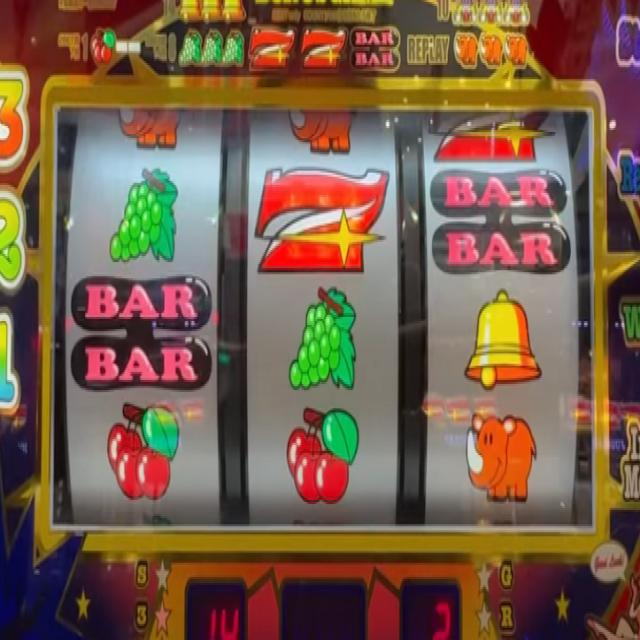bar: (69, 272, 213, 393), (430, 165, 572, 280), (349, 26, 401, 77)
bell: (463, 287, 543, 391), (178, 0, 201, 25), (222, 0, 246, 23), (202, 0, 222, 24)
cherry: (284, 404, 360, 506), (105, 399, 180, 501), (90, 26, 115, 68)
clown: (502, 0, 530, 29), (452, 0, 478, 29), (479, 0, 503, 29)
display: (49, 94, 596, 539)
elephant: (463, 409, 538, 508), (286, 107, 357, 156), (113, 106, 182, 153), (453, 33, 478, 69), (503, 32, 528, 68), (479, 32, 502, 68)
grape: (289, 282, 358, 396), (109, 165, 179, 268), (177, 28, 200, 69), (202, 27, 223, 69), (223, 26, 244, 68)
z: (253, 164, 391, 280), (426, 104, 557, 162), (299, 24, 348, 73), (248, 22, 294, 72)
